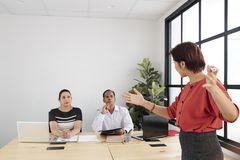Person: (120, 41, 240, 160), (91, 88, 133, 135), (49, 89, 82, 141)
